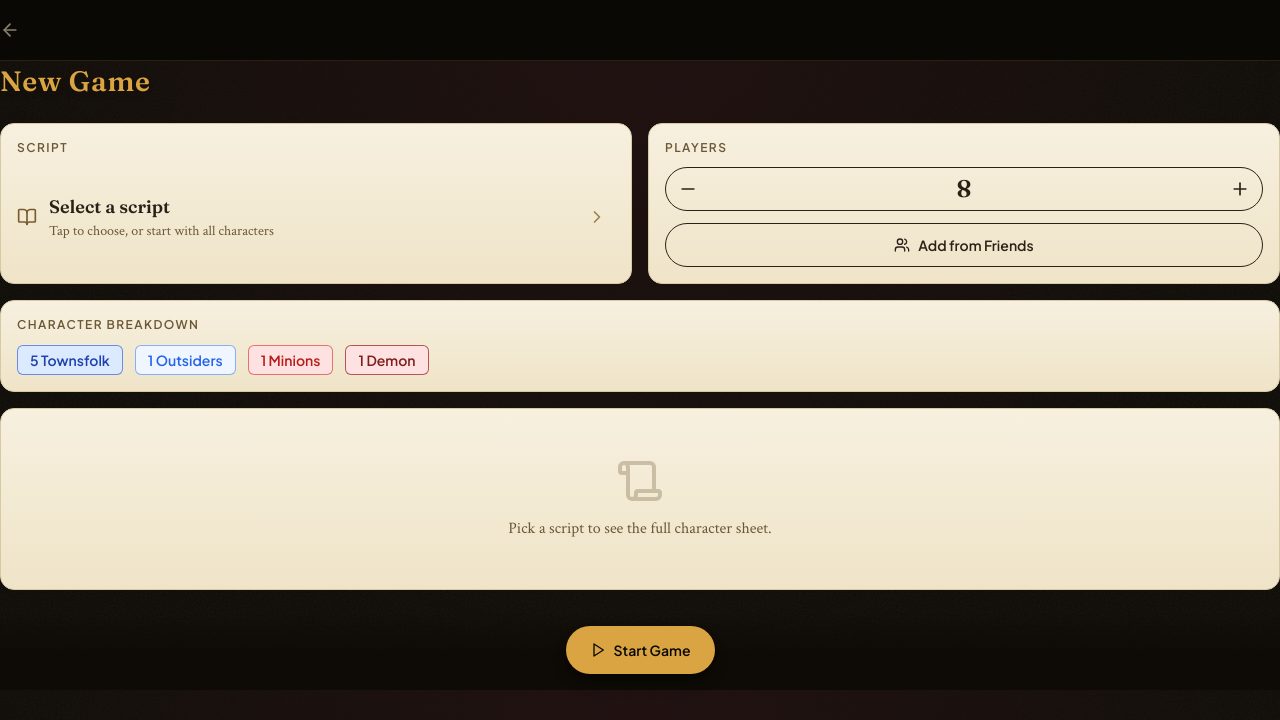
Test: SetupWizard script-sheet setup › opens the script picker drawer when the script card is tapped
Click the button with test id "button-script-selector" at (110,207), box left=13, top=163, right=611, bottom=271
(page scrolled)
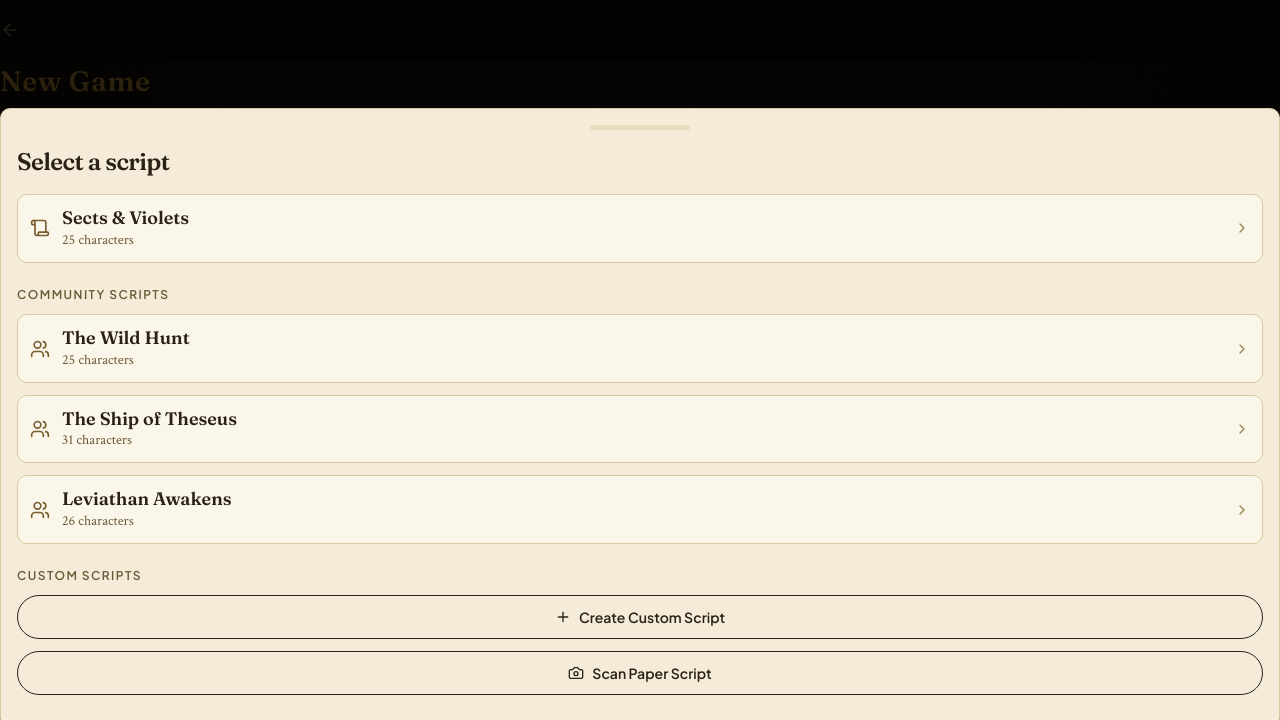
Expected: the button with test id "button-create-custom-script" is shown, left=17, top=595, right=1263, bottom=639
Expected: the button with test id "button-scan-paper-script" is shown, left=17, top=651, right=1263, bottom=695
